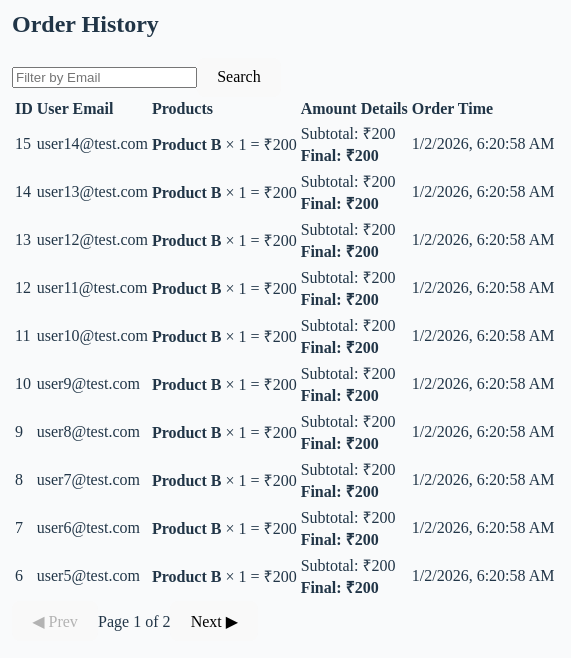
Test: OrderHistory Component › should paginate orders correctly
Expected: the text "Page 1 of 2" is shown, [98,613,170,630]
Click the button "Next ▶": click(214, 621) [170,601,258,641]
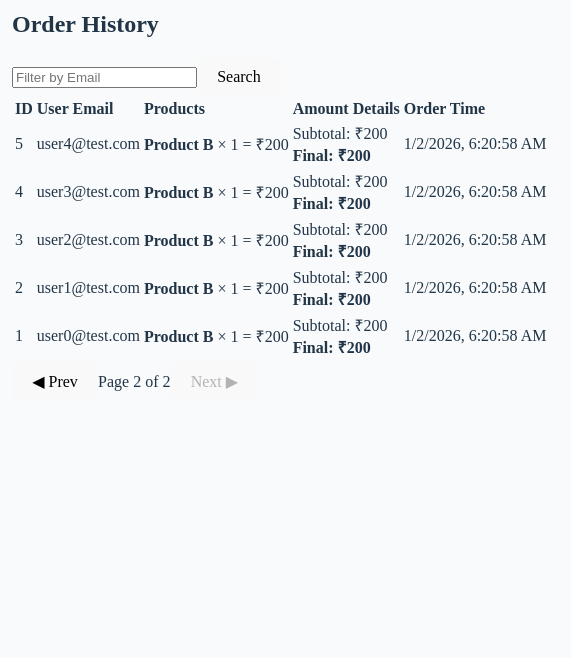
Result: the text "Page 2 of 2" is shown at [98,373,170,390]
Click the button "◀ Prev": click(55, 381) [12,361,98,401]
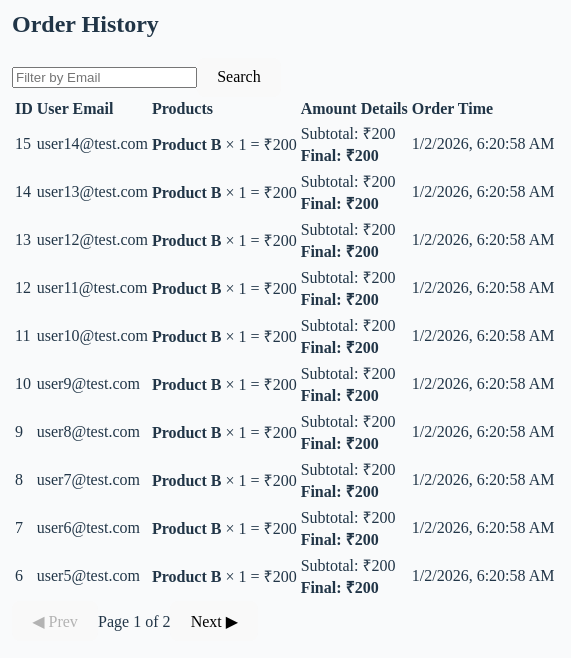
Result: the text "Page 1 of 2" is shown at [98,613,170,630]
